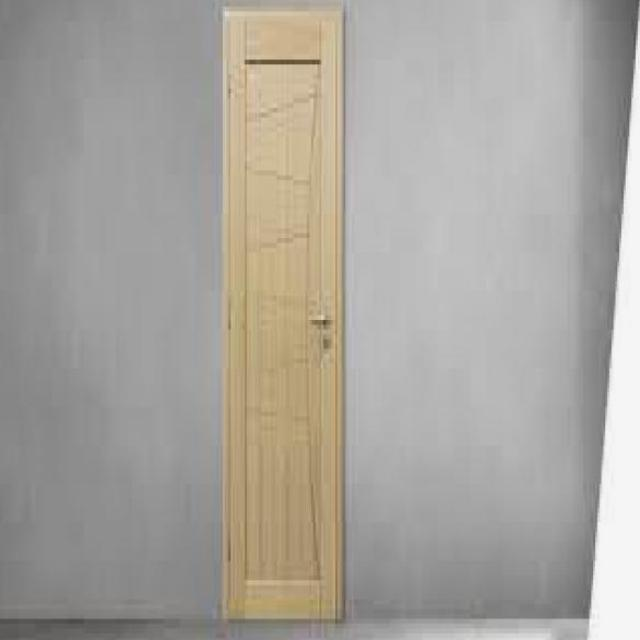door: (221, 5, 345, 622)
